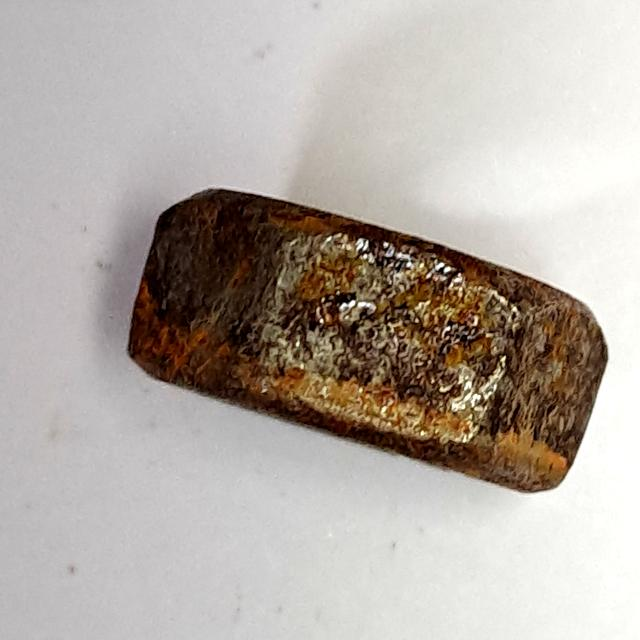Side_Rust: (109, 173, 616, 505)
